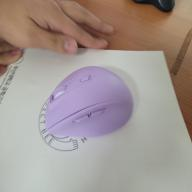mouse: (43, 65, 133, 137)
